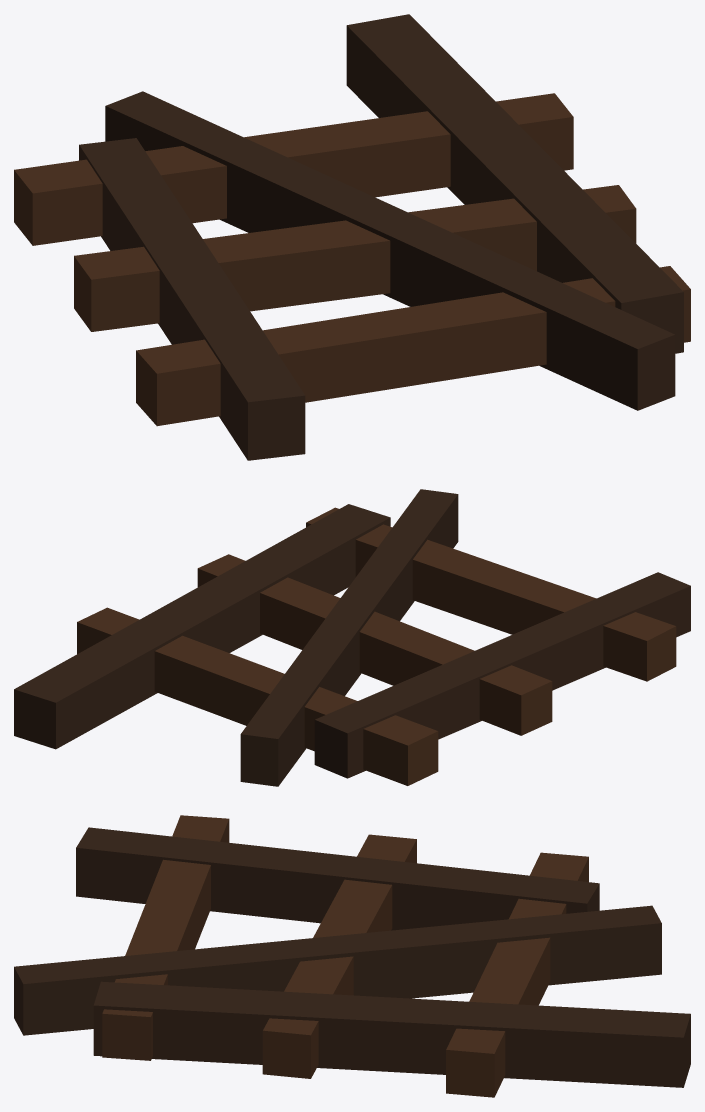
The model's file is palette.gltf.
3 views of the same model, one above another, from view 1: azimuth 30°, elevation 25°; view 2: azimuth 150°, elevation 25°; view 3: azimuth 270°, elevation 25° (orthographic). The views are drawn at different scales.
Visible parts, largest first — view 1: Cube, Cube.001, Cube.004, Cube.006, Cube.005, Cube.002; view 2: Cube.001, Cube.002, Cube, Cube.004, Cube.005, Cube.006; view 3: Cube.001, Cube, Cube.002, Cube.005, Cube.006, Cube.004.
Boxes of the visible parts, x1,y1,x2,y2 form: Cube: (105, 91, 675, 410); Cube.001: (346, 14, 683, 353); Cube.004: (136, 266, 690, 426); Cube.006: (74, 185, 636, 331); Cube.005: (14, 93, 573, 245); Cube.002: (79, 138, 305, 460); Cube.001: (14, 504, 390, 749); Cube.002: (314, 572, 690, 778); Cube: (240, 489, 458, 786); Cube.004: (306, 507, 676, 681); Cube.005: (77, 607, 438, 785); Cube.006: (197, 554, 552, 735); Cube.001: (93, 981, 690, 1087); Cube: (14, 905, 661, 1035); Cube.002: (76, 827, 599, 930); Cube.005: (446, 852, 588, 1097); Cube.006: (262, 834, 416, 1078); Cube.004: (102, 815, 229, 1060).
Bounding box in the file's own units: 7.83 × 0.7868 × 9.38.
